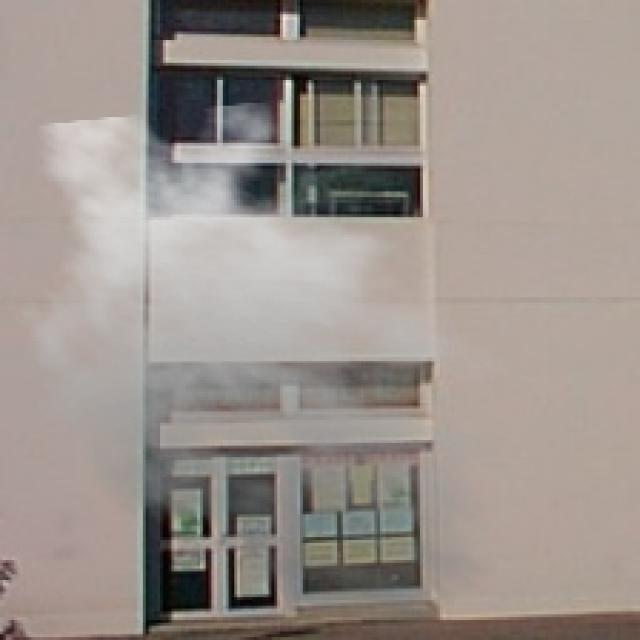Smoke: (0, 99, 549, 632)
